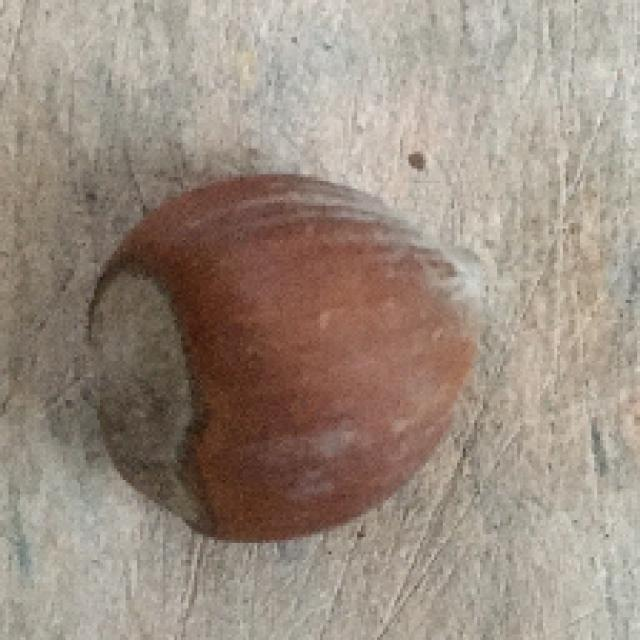qualityHazelnut: (74, 181, 502, 545)
